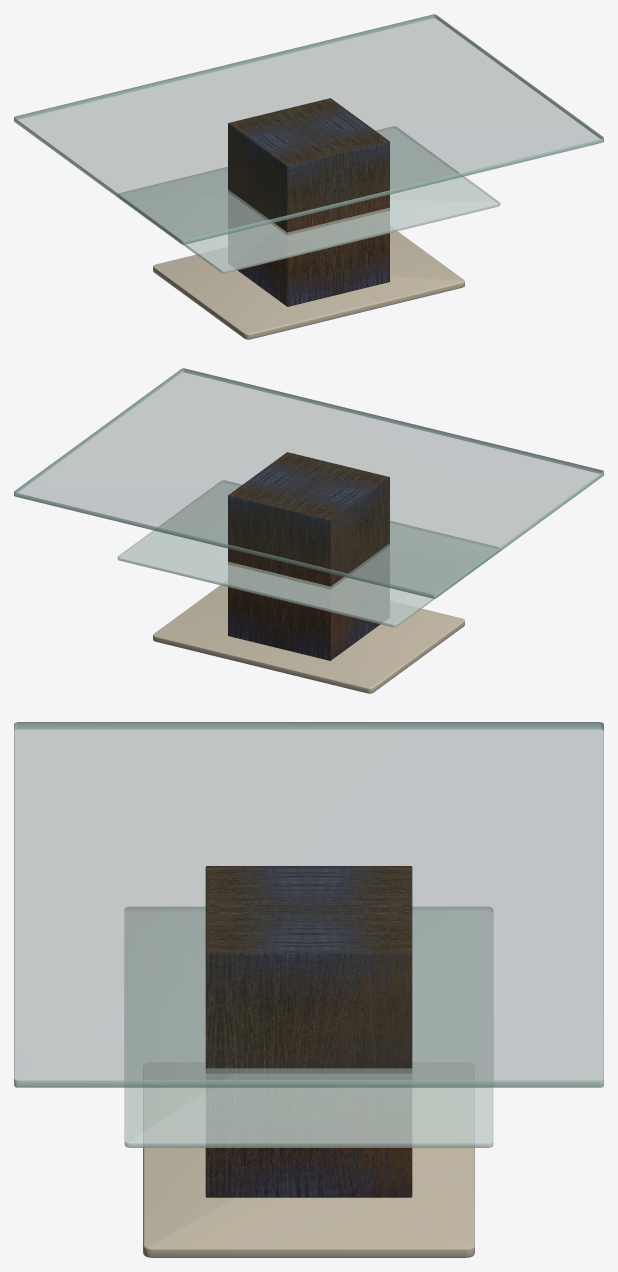
File: reccEHvAD5jKdIJ1b.glb
3 views of the same model, one above another, from view 1: azimuth 30°, elevation 25°; view 2: azimuth 150°, elevation 25°; view 3: azimuth 270°, elevation 25° (orthographic). The views are drawn at different scales.
Visible parts, largest first — view 1: Table_Plateau_Verre, Table_Colonne_Wenge, Table_Tablette_Depolie, Table_Socle_Inox; view 2: Table_Plateau_Verre, Table_Colonne_Wenge, Table_Tablette_Depolie, Table_Socle_Inox; view 3: Table_Plateau_Verre, Table_Colonne_Wenge, Table_Tablette_Depolie, Table_Socle_Inox.
Boxes of the visible parts, <box> form: Table_Plateau_Verre: <box>14,14,603,244</box>; Table_Colonne_Wenge: <box>228,98,389,306</box>; Table_Tablette_Depolie: <box>118,126,500,273</box>; Table_Socle_Inox: <box>153,226,464,339</box>; Table_Plateau_Verre: <box>14,368,603,598</box>; Table_Colonne_Wenge: <box>228,452,389,660</box>; Table_Tablette_Depolie: <box>117,480,499,627</box>; Table_Socle_Inox: <box>153,580,464,693</box>; Table_Plateau_Verre: <box>14,722,603,1087</box>; Table_Colonne_Wenge: <box>205,866,412,1197</box>; Table_Tablette_Depolie: <box>124,906,493,1147</box>; Table_Socle_Inox: <box>143,1088,474,1257</box>.
Bounding box in the file's own units: 1.15 × 0.395 × 0.8.
5 materials, 1 textured.
